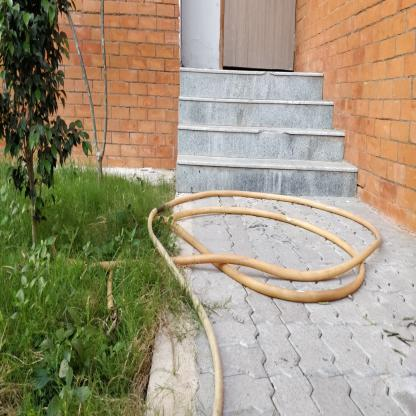stairs: (184, 103, 331, 204)
